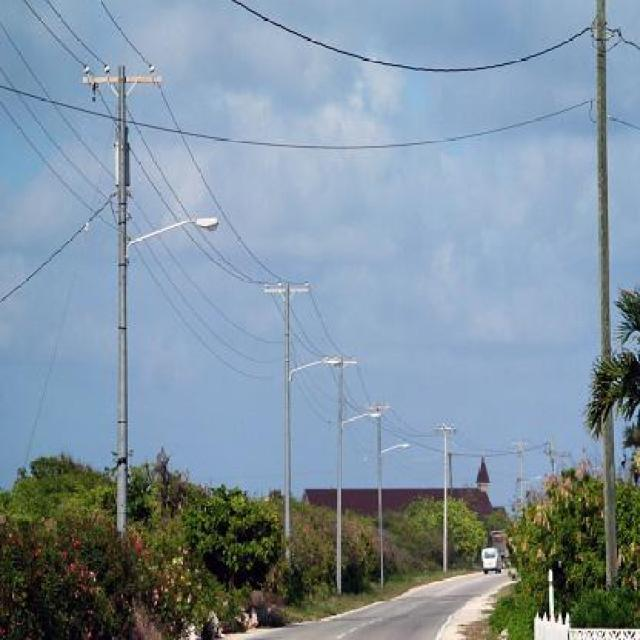pole: (74, 56, 168, 530), (258, 278, 314, 538)
